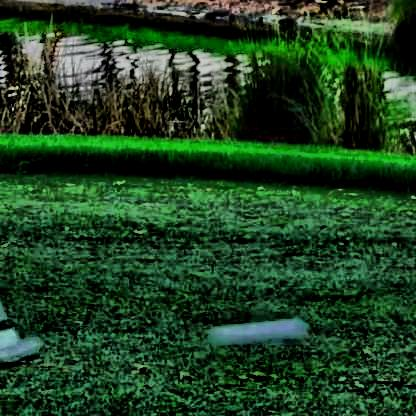golfball: (207, 313, 308, 346)
